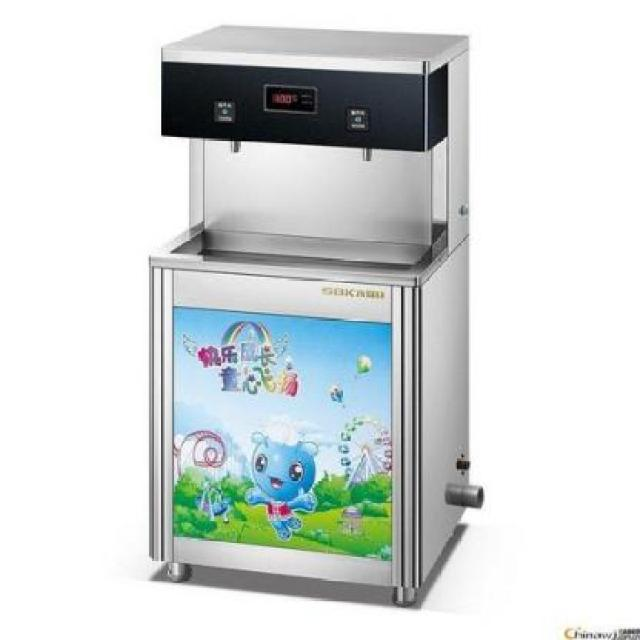cooler: (146, 22, 484, 613)
